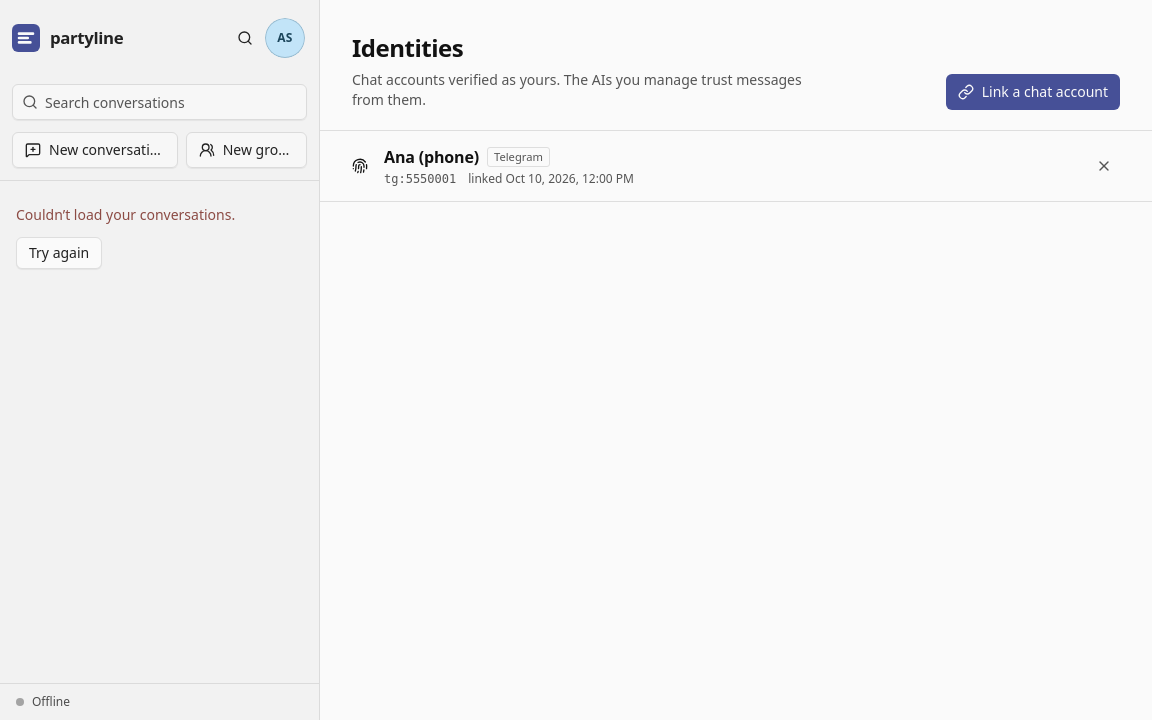
Test case: identities page (UI-18) › deletes an identity after confirmation
Click the button named "Remove Ana (phone)": (1104,166) [1088, 150, 1120, 182]
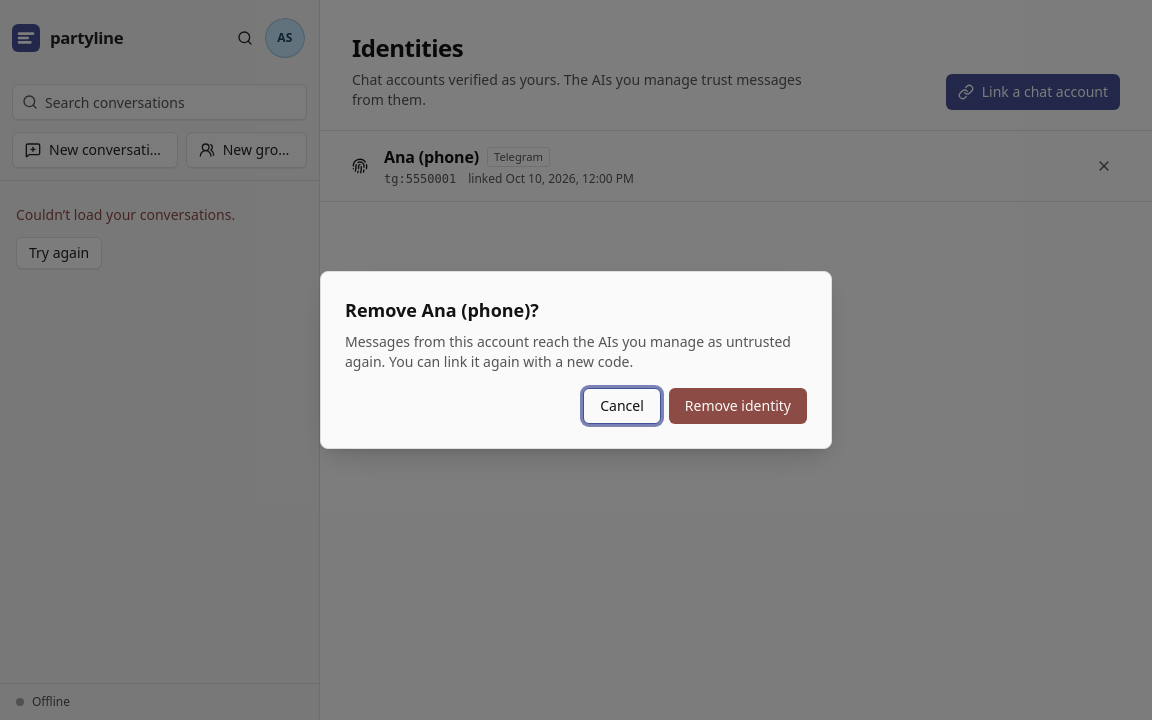
Expected: the dialog shows "Messages from this account reach the AIs you manage as untrusted again. You can link it again with a new code.", [345, 332, 791, 371]
Click the button "Remove identity": (738,406) [669, 388, 807, 424]
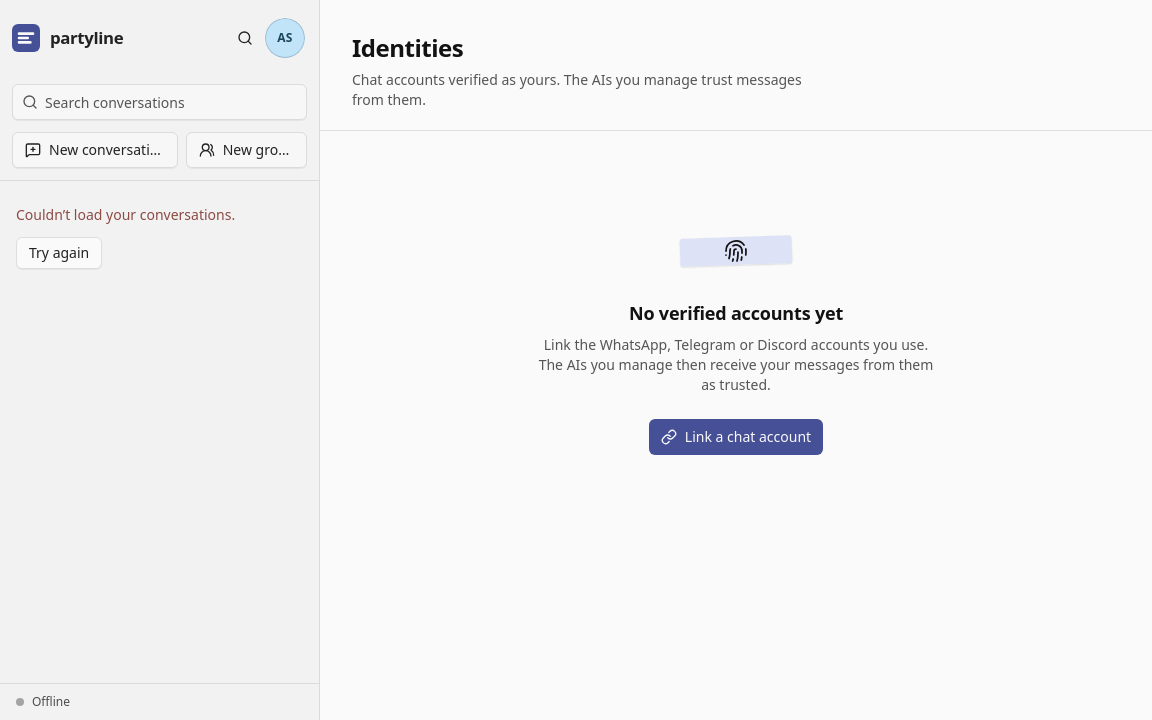
Expected: the text "Ana (phone)" is gone
